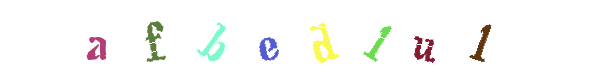1: (283, 0, 363, 80), (412, 0, 492, 80)
A: (130, 0, 210, 80)
B: (183, 0, 263, 80)
D: (260, 0, 340, 80)
E: (228, 0, 308, 80)
F: (132, 0, 212, 80)
U: (305, 0, 385, 80)
